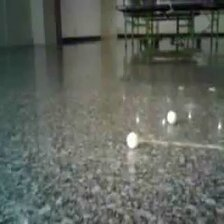w: (125, 132, 141, 148), (167, 111, 177, 123)
